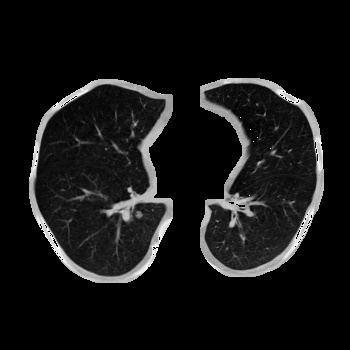PN: (134, 210, 142, 218)
